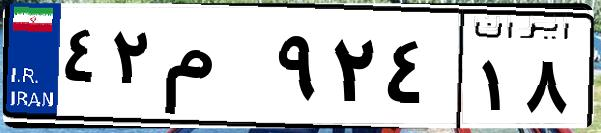1: (475, 38, 525, 113)
2: (330, 28, 385, 110), (110, 28, 158, 98)
4: (385, 28, 445, 110), (57, 26, 110, 100)
8: (525, 38, 570, 115)
9: (270, 28, 330, 110)
م: (158, 20, 270, 120)
